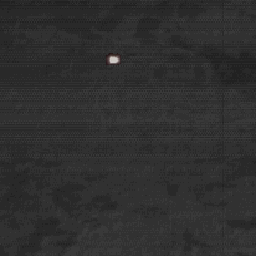Target: (107, 54, 121, 65)
